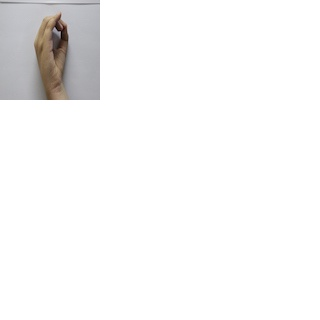rock: (26, 8, 72, 88)
